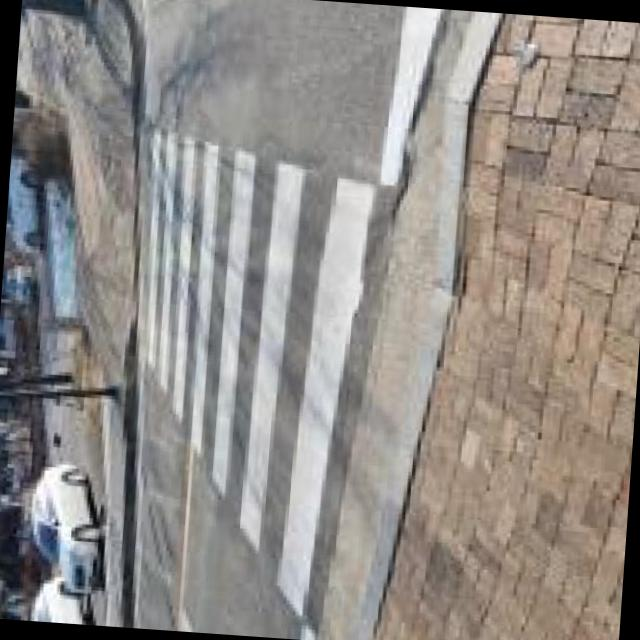zebra: (117, 97, 409, 631)
